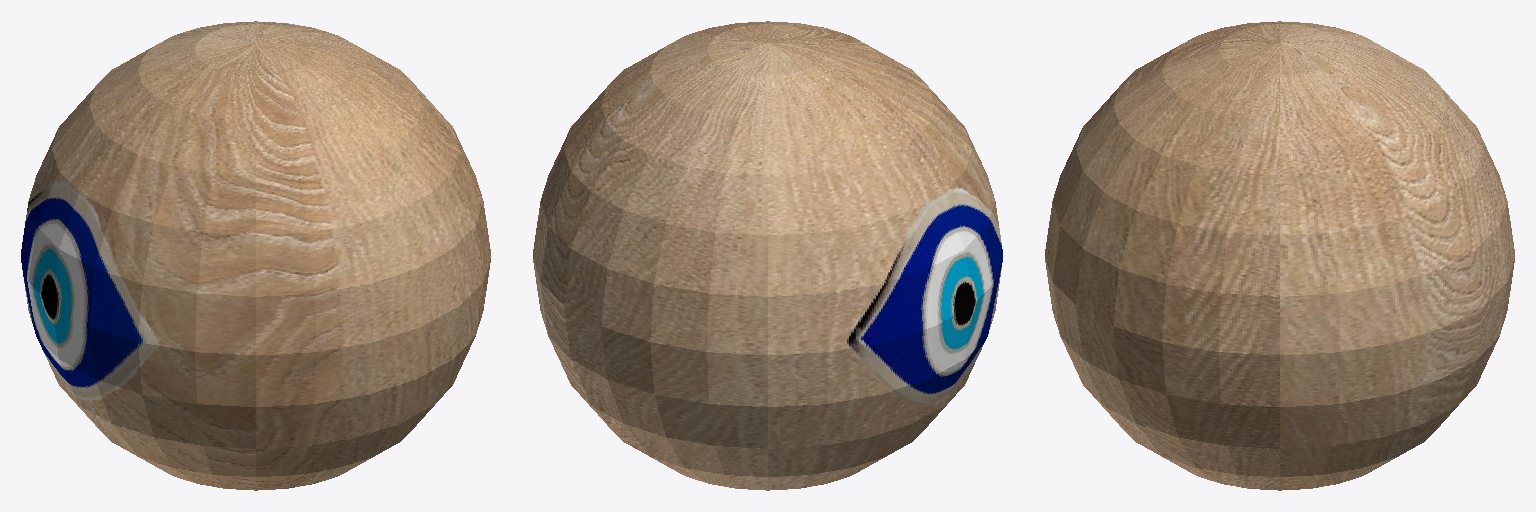
3 renders of one model, left to right at view 1: azimuth 30°, elevation 25°; view 2: azimuth 150°, elevation 25°; view 3: azimuth 270°, elevation 25°, orthographic.
Parts seen in each view (by area): view 1: 球体; view 2: 球体; view 3: 球体.
Part boxes in pixels (left/top/right/bottom): 球体: left=21, top=21, right=490, bottom=490; 球体: left=533, top=21, right=1002, bottom=490; 球体: left=1045, top=21, right=1514, bottom=490.
Bounding box in the file's own units: 52.5 × 52.5 × 52.5.
1 materials, 1 textured.